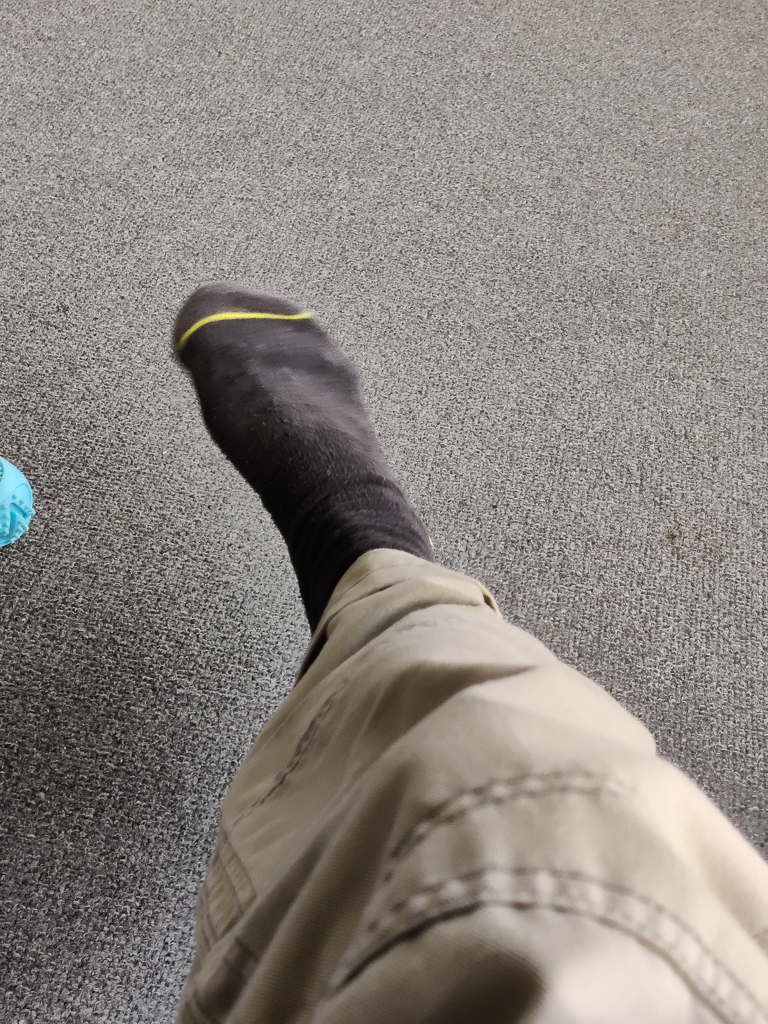Humanoid: (142, 263, 768, 1024)
